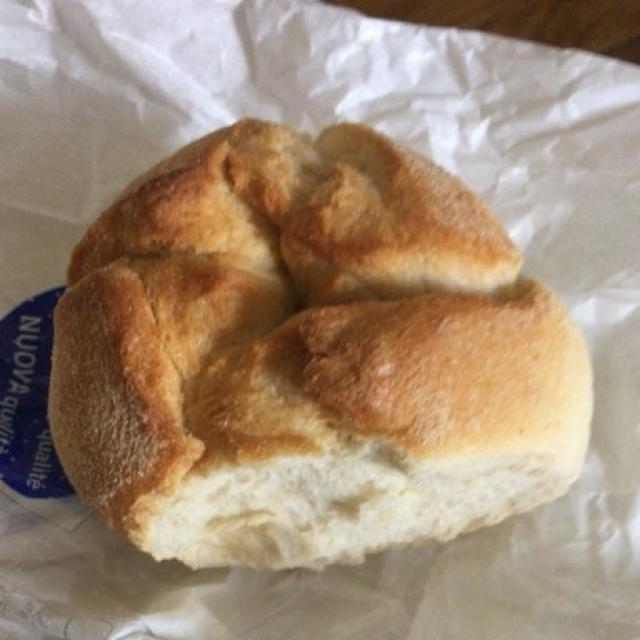bread-white: (50, 128, 586, 568)
